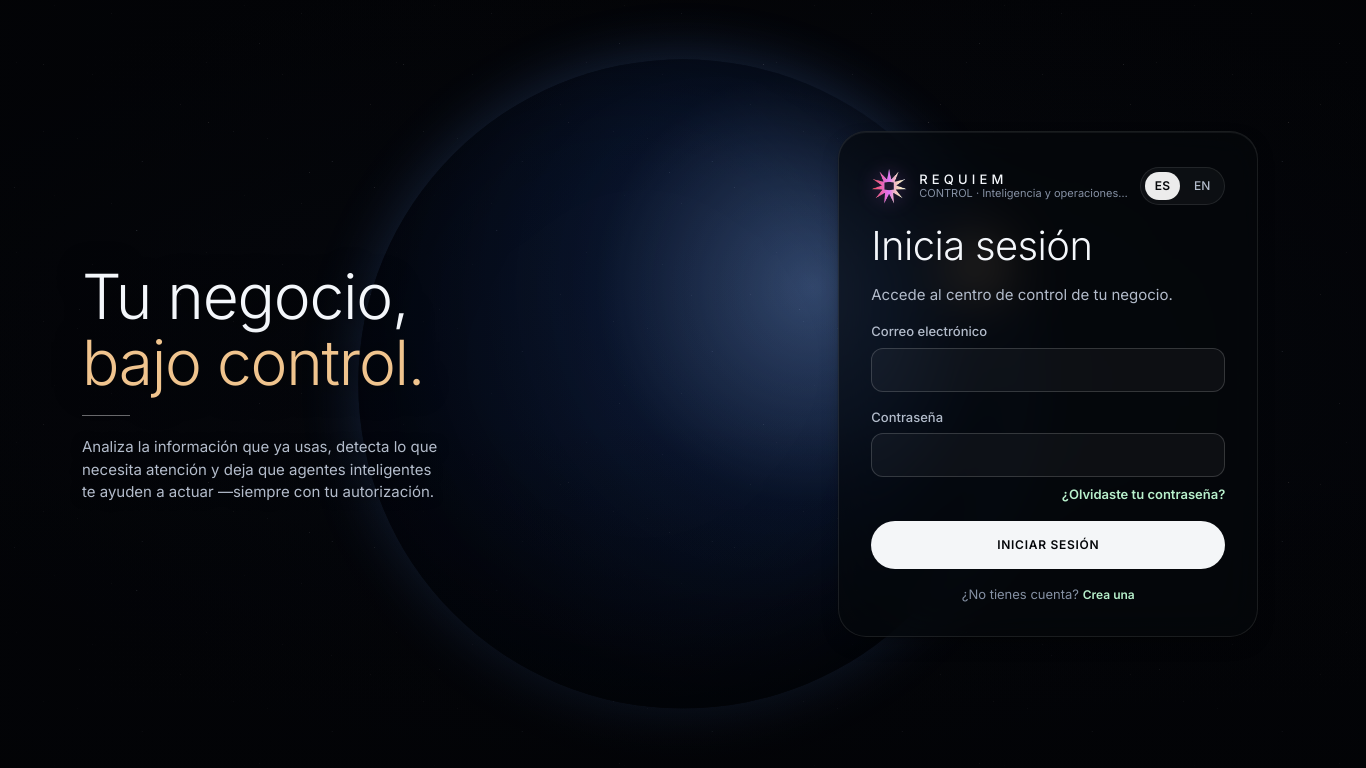
Test case: account recovery and invitations › login links to password recovery, which never reveals whether the account exists
Click the link "¿Olvidaste tu contraseña?". click: (1144, 495)
box: left=1062, top=485, right=1225, bottom=505
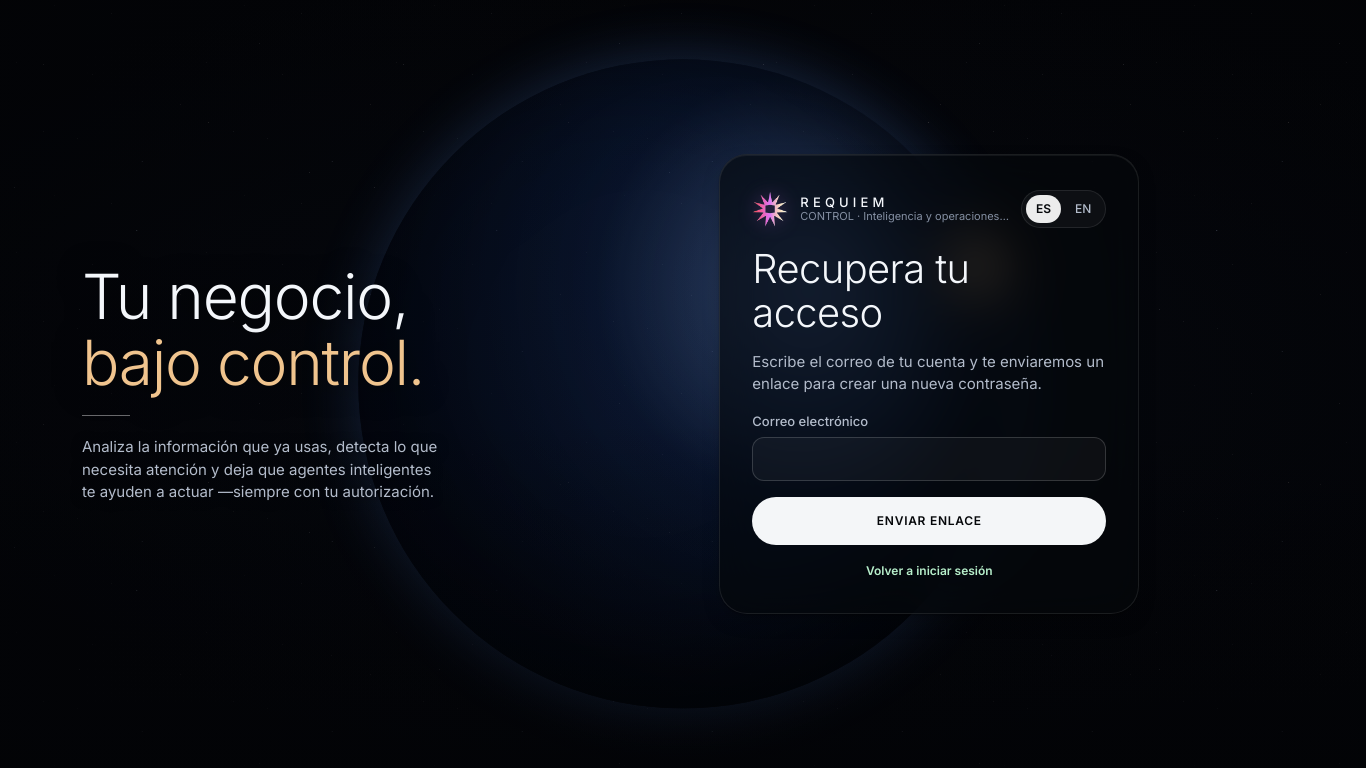
Type "ana@example.com" into the field labelled "Correo electrónico". click: (929, 459)
box: left=752, top=437, right=1106, bottom=481
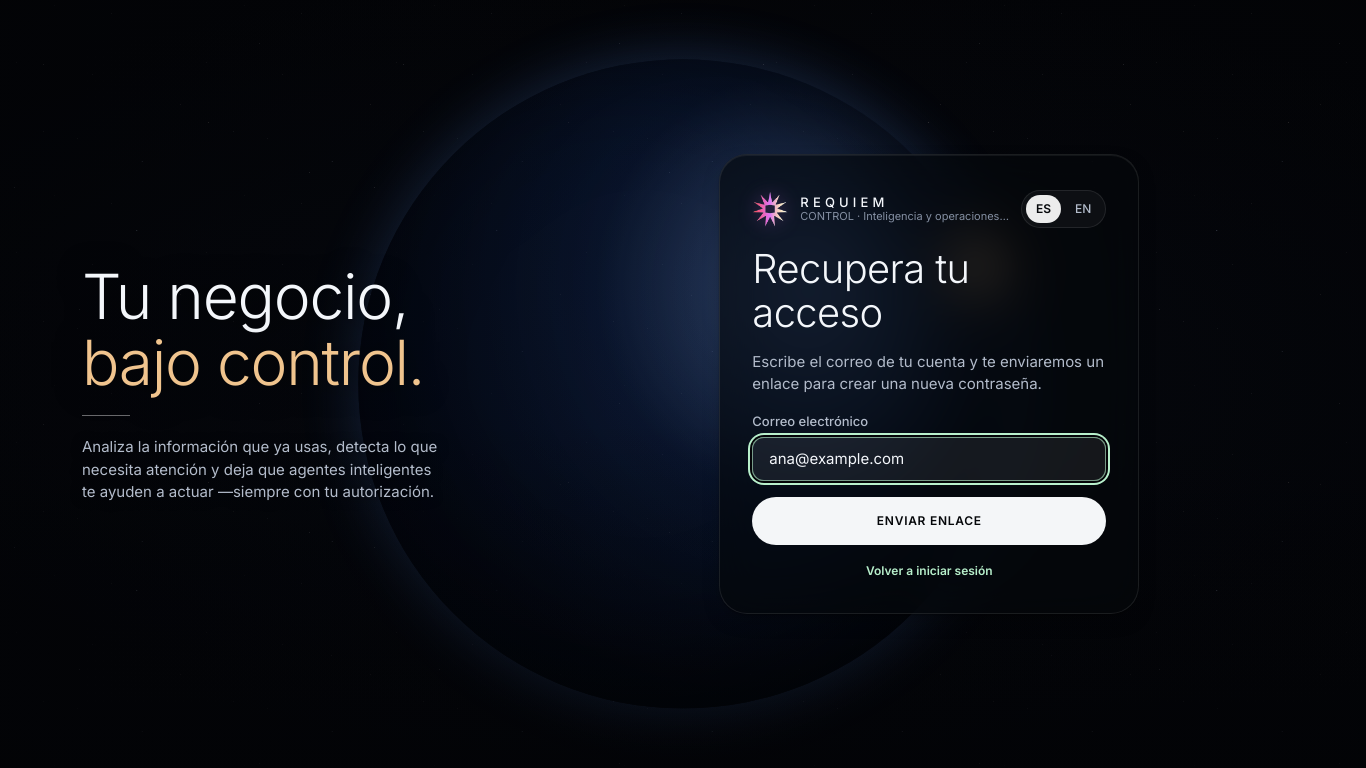
Click the button "Enviar enlace". click: (929, 521)
box: left=752, top=497, right=1106, bottom=545
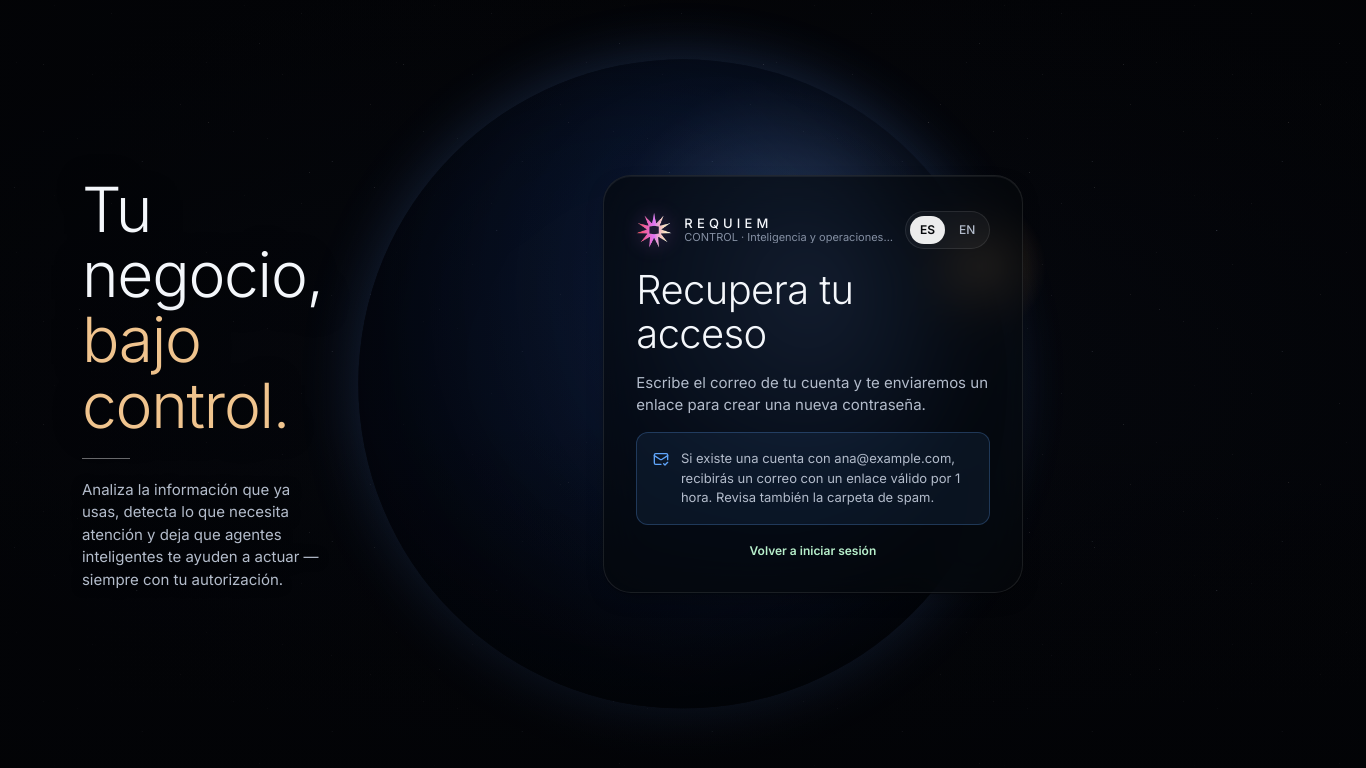
Now the message shows "Si existe una cuenta con ana@example.com", box left=681, top=450, right=960, bottom=505
